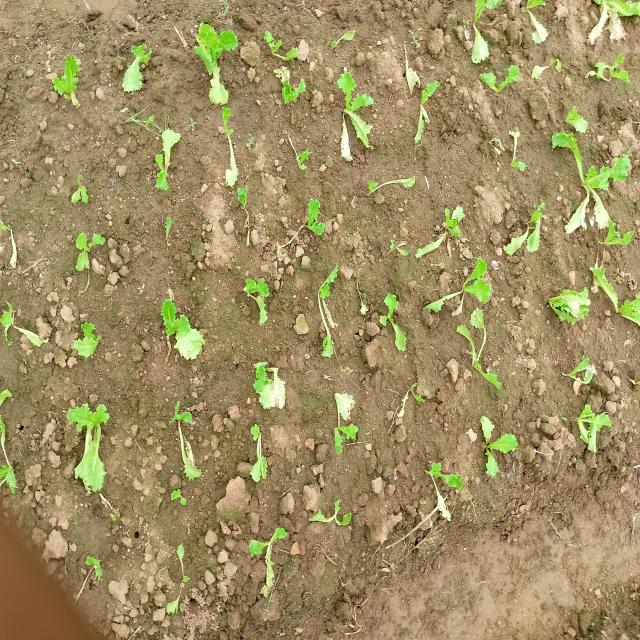Lettuce: (540, 133, 632, 234), (64, 394, 124, 496), (189, 16, 240, 110), (151, 298, 216, 368), (162, 395, 212, 486), (423, 258, 497, 312), (332, 69, 374, 161), (454, 309, 499, 392), (464, 414, 520, 480), (248, 520, 293, 600), (589, 257, 640, 327), (414, 195, 464, 266), (318, 389, 369, 457), (313, 261, 347, 361), (111, 38, 162, 96), (242, 356, 292, 413), (424, 454, 462, 524), (466, 0, 507, 63), (503, 203, 551, 256), (570, 400, 616, 455), (282, 194, 330, 246), (154, 119, 184, 202), (580, 0, 640, 41), (410, 72, 440, 152), (62, 228, 110, 274), (163, 539, 192, 613), (383, 289, 412, 356), (545, 285, 591, 327), (68, 316, 108, 364), (51, 53, 83, 107), (219, 107, 239, 190), (516, 0, 553, 44), (308, 496, 358, 528), (585, 53, 632, 86), (480, 65, 522, 101), (252, 418, 274, 485), (264, 32, 305, 67), (246, 273, 270, 330), (362, 179, 418, 201), (564, 359, 600, 390), (567, 102, 593, 134), (71, 170, 90, 212), (327, 24, 357, 50), (236, 184, 253, 229), (286, 75, 306, 112)
